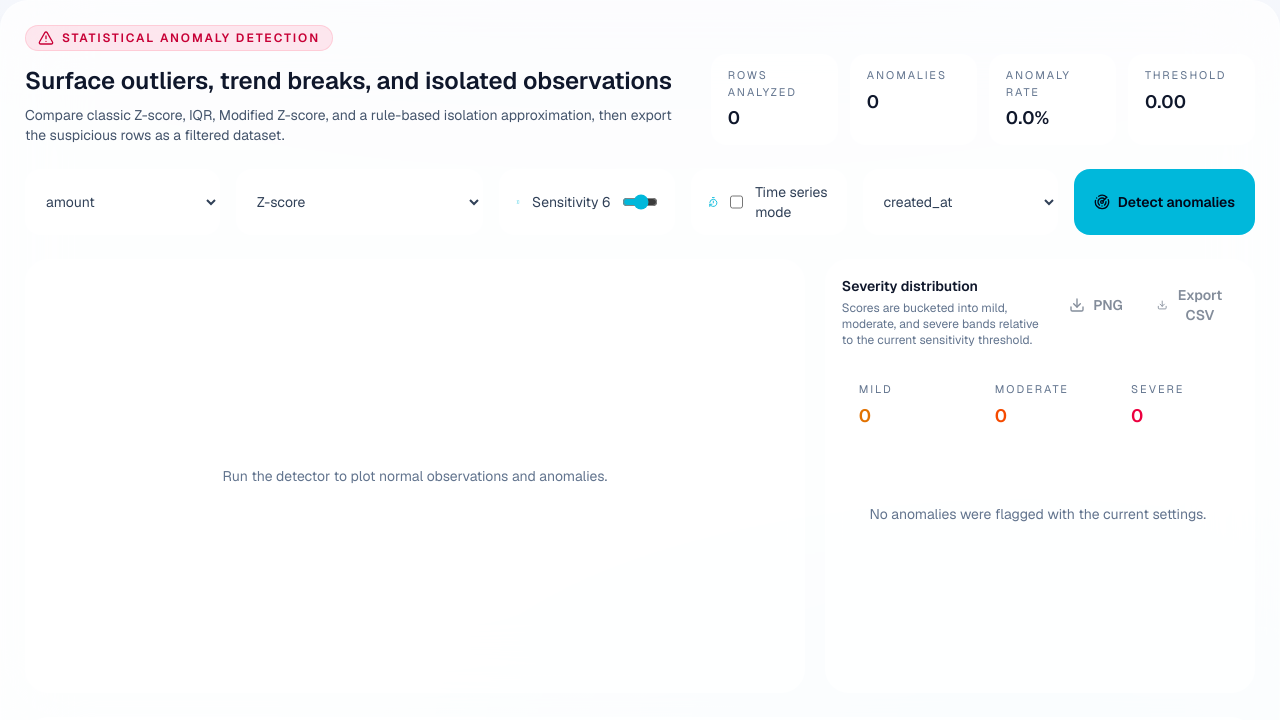
AnomalyDetector › flags outliers with the selected detection method
Select "IQR" in the 2nd dropdown at (360, 202), box [236,169,483,235]
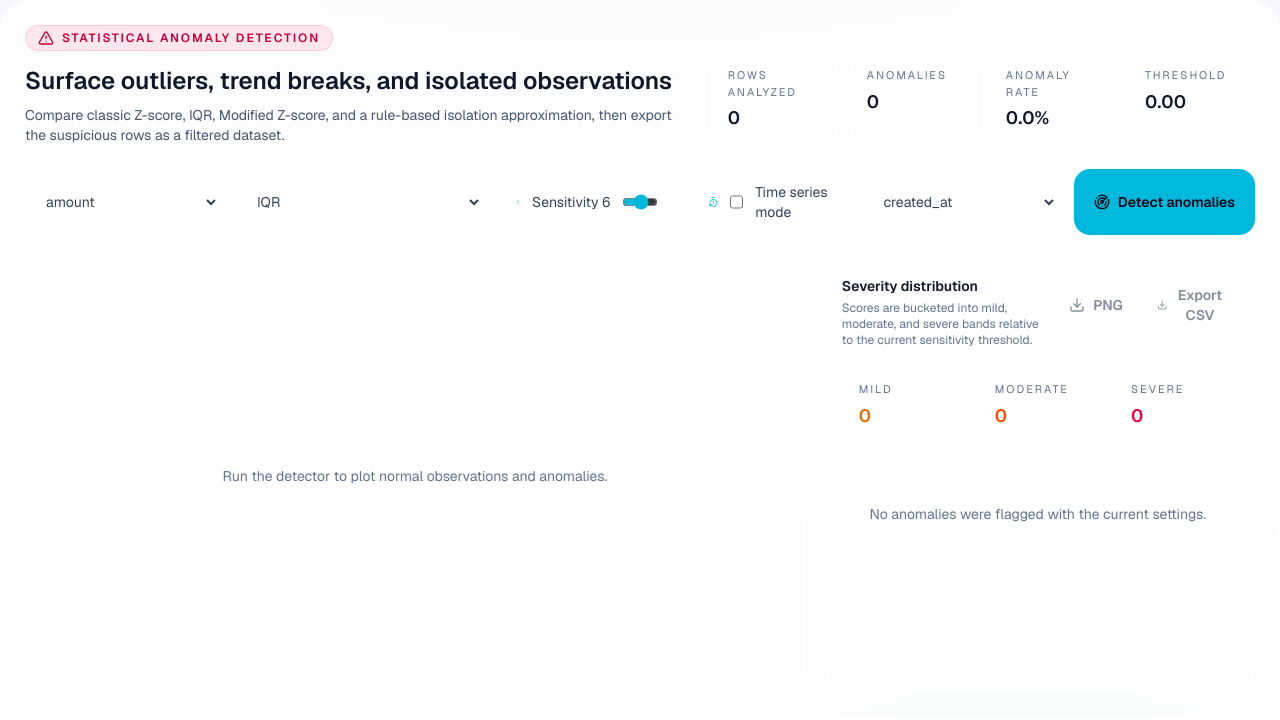
Click the button "Detect anomalies".
click(1164, 202)  # box [1074,169,1255,235]
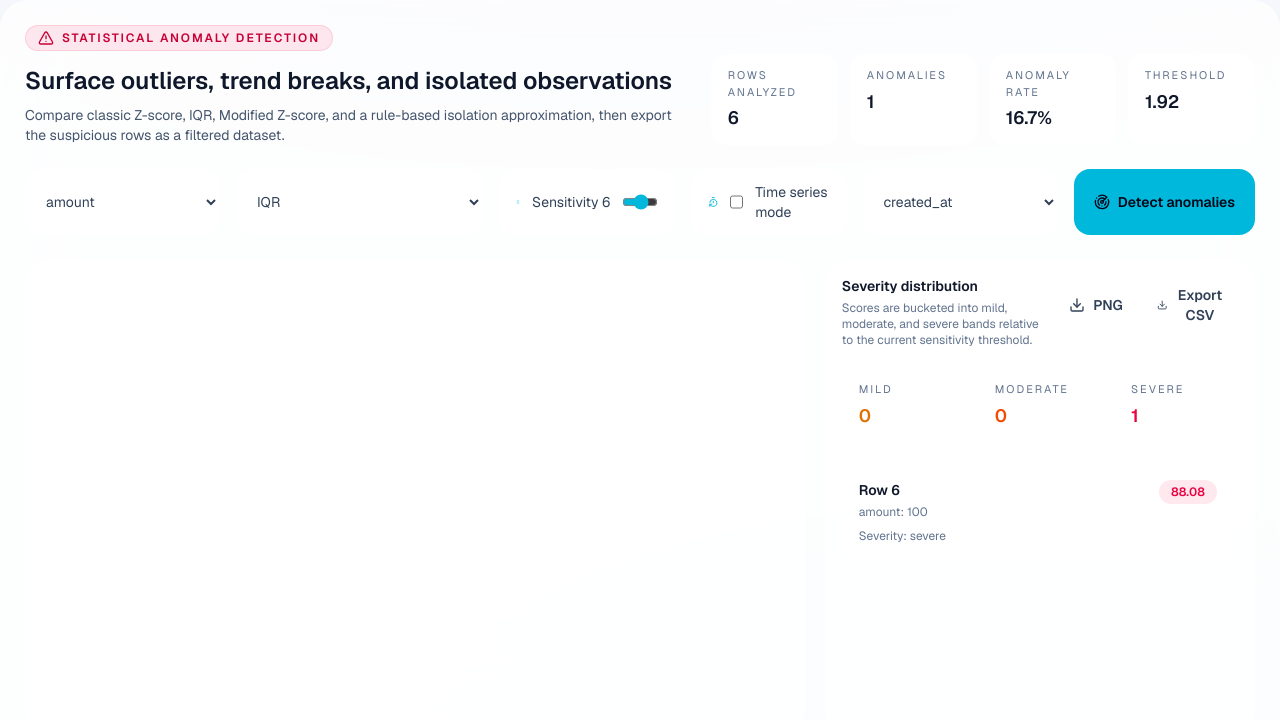
expect the text "Severity: severe" is shown: met, box [859,528,946,544]
expect the text "Row 6" is shown 2 times: met
expect the text "amount: 100" is shown: met, box [859,504,928,520]
